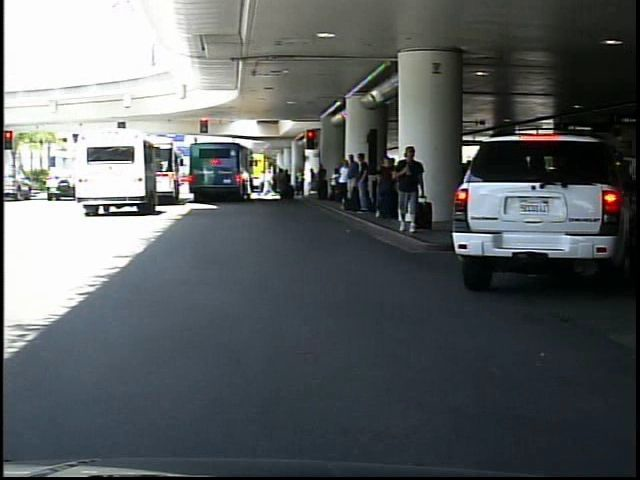person: (392, 144, 426, 237)
